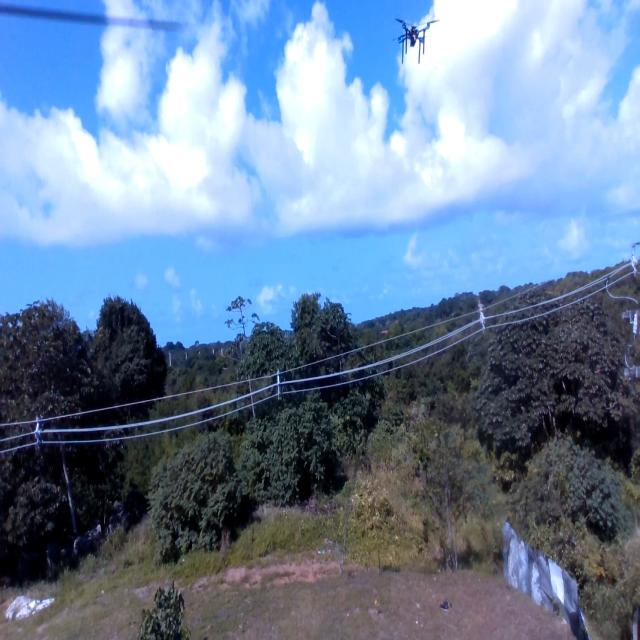-uav-: (391, 4, 444, 80)
